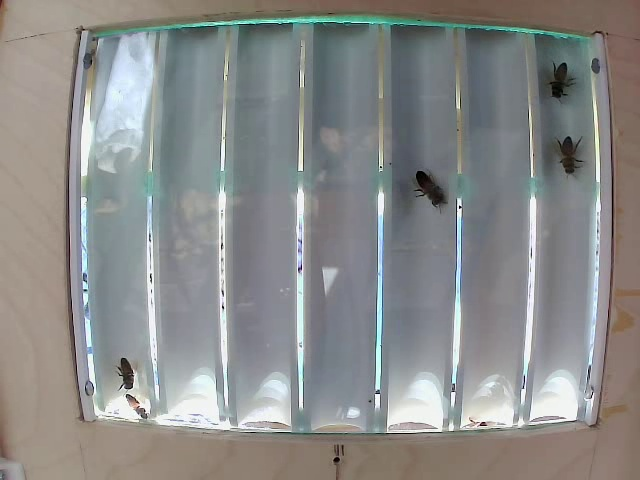bee: (399, 156, 454, 208), (535, 133, 583, 184), (541, 47, 578, 100), (104, 358, 150, 388)
